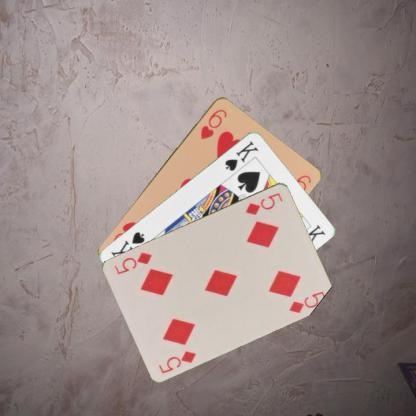5d: (156, 348, 198, 375), (242, 190, 284, 216)
6h: (198, 106, 228, 140)
Ks: (222, 138, 260, 172)
